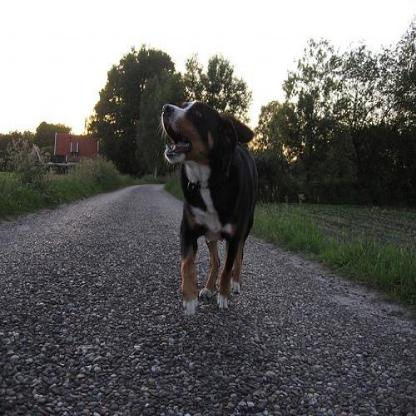Appenzeller: (156, 96, 259, 318)
